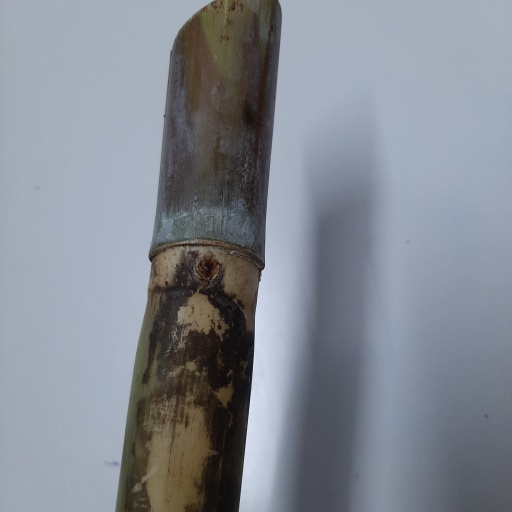Damage_Bud: (196, 249, 218, 283)
